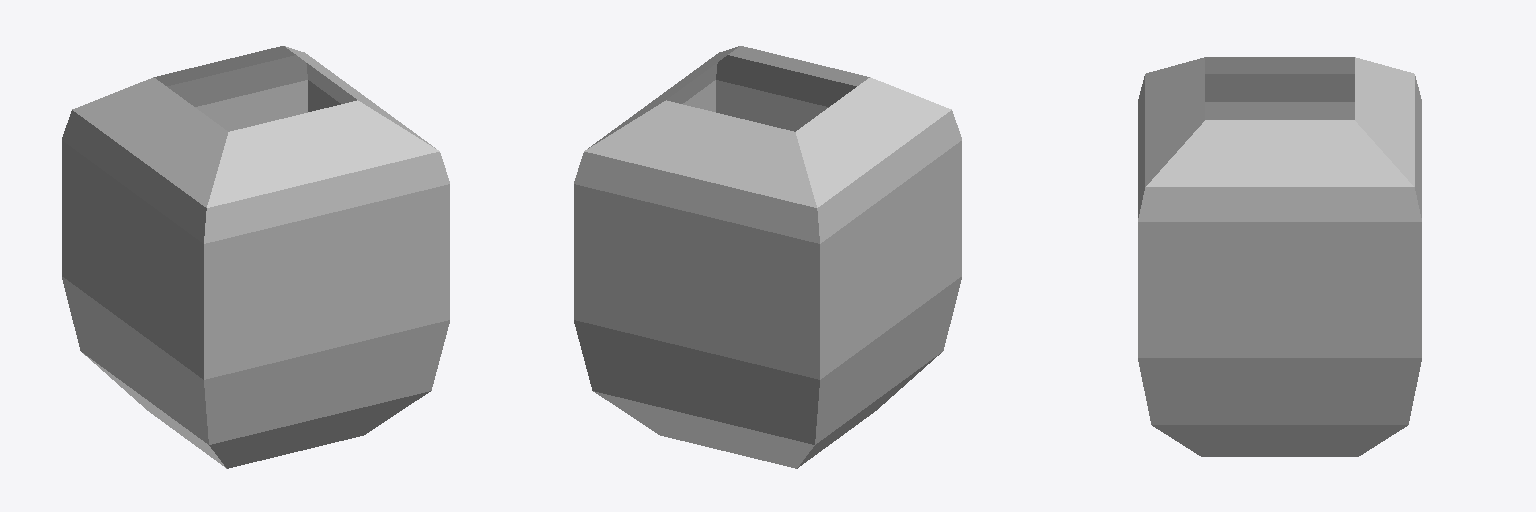
Rendered from floatingCandle.obj.
The picture shows the model from 3 angles: view 1: azimuth 30°, elevation 25°; view 2: azimuth 150°, elevation 25°; view 3: azimuth 270°, elevation 25°; orthographic projection.
Parts seen in each view (by area): view 1: Default; view 2: Default; view 3: Default.
Part boxes in pixels (x1,y1,x2,y2): Default: (62, 46, 449, 468); Default: (574, 46, 961, 468); Default: (1138, 57, 1421, 456).
Bounding box in the file's own units: 2 × 2.59 × 2.